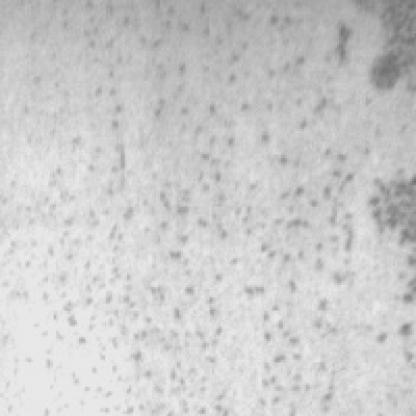pitted_surface: (38, 56, 350, 416), (366, 174, 414, 370), (358, 4, 414, 98)
